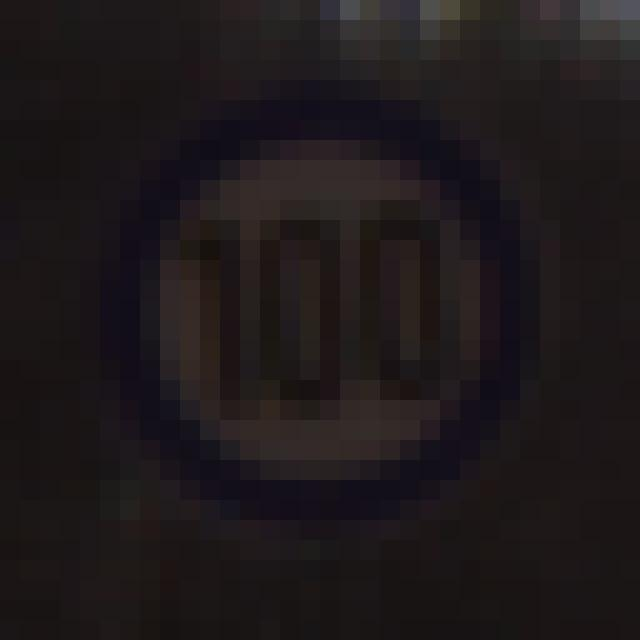SPEED LIMIT 100: (117, 144, 525, 506)
